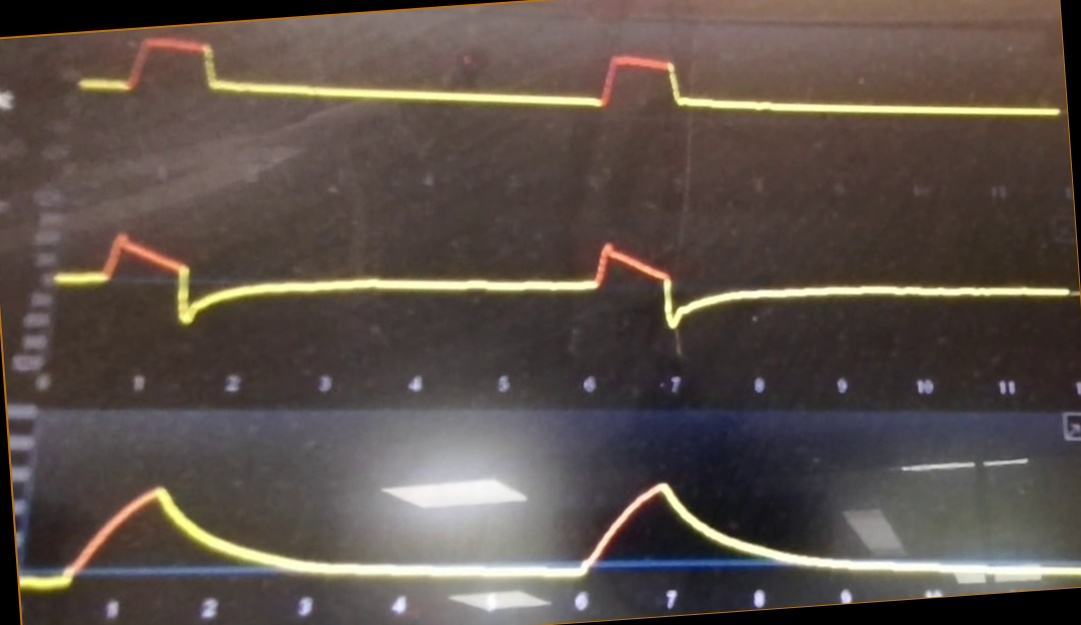Normal Flow: (57, 223, 1063, 353)
Normal Volume: (20, 471, 1081, 589)
